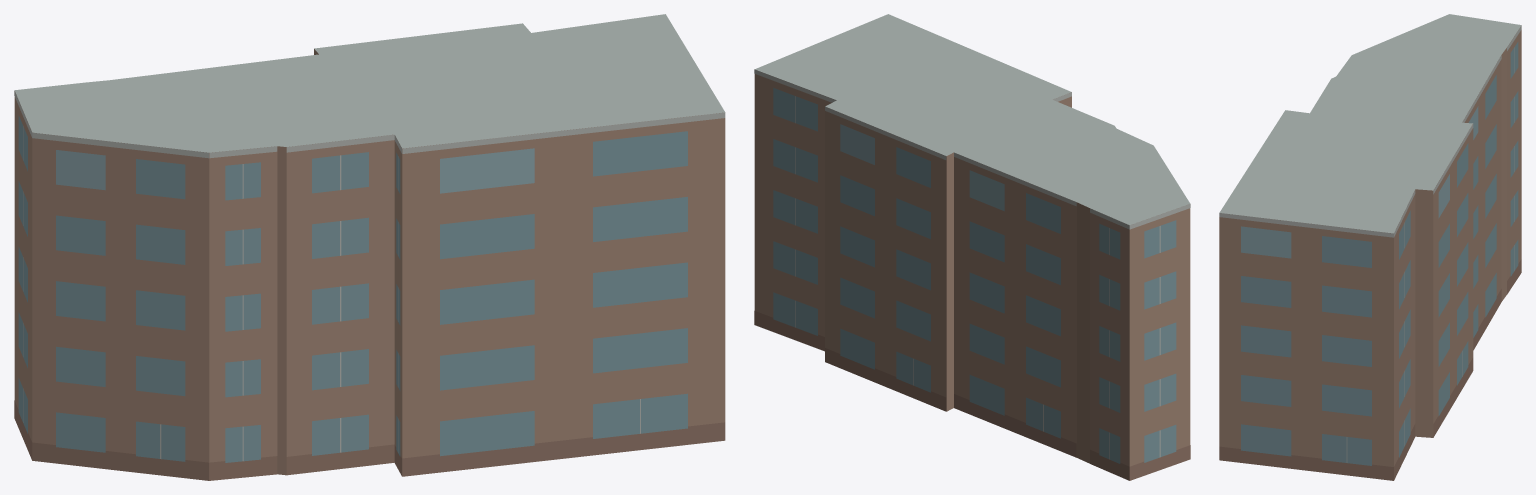
Rendered from survey-upis-32961824.glb.
3 views of the same model, side by side, from view 1: azimuth 30°, elevation 25°; view 2: azimuth 150°, elevation 25°; view 3: azimuth 270°, elevation 25° (orthographic). The views are drawn at different scales.
Visible parts, largest first — view 1: survey-upis-32961824.tmp; view 2: survey-upis-32961824.tmp; view 3: survey-upis-32961824.tmp.
Boxes of the visible parts, x1=… form: survey-upis-32961824.tmp: x1=14, y1=14, x2=725, y2=480; survey-upis-32961824.tmp: x1=754, y1=14, x2=1190, y2=480; survey-upis-32961824.tmp: x1=1219, y1=14, x2=1521, y2=480.
Bounding box in the file's own units: 27.4 × 14.4 × 15.96.
